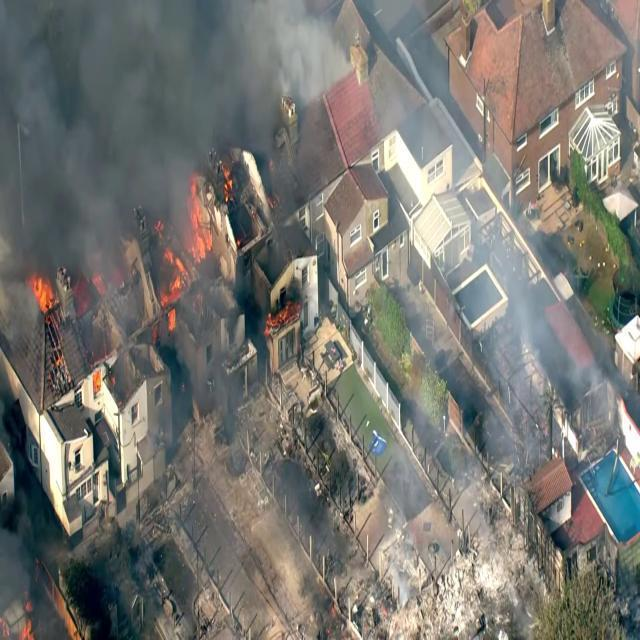Fire: (172, 171, 216, 290), (153, 227, 196, 317), (27, 258, 60, 310)
Smoke: (12, 20, 194, 199)
